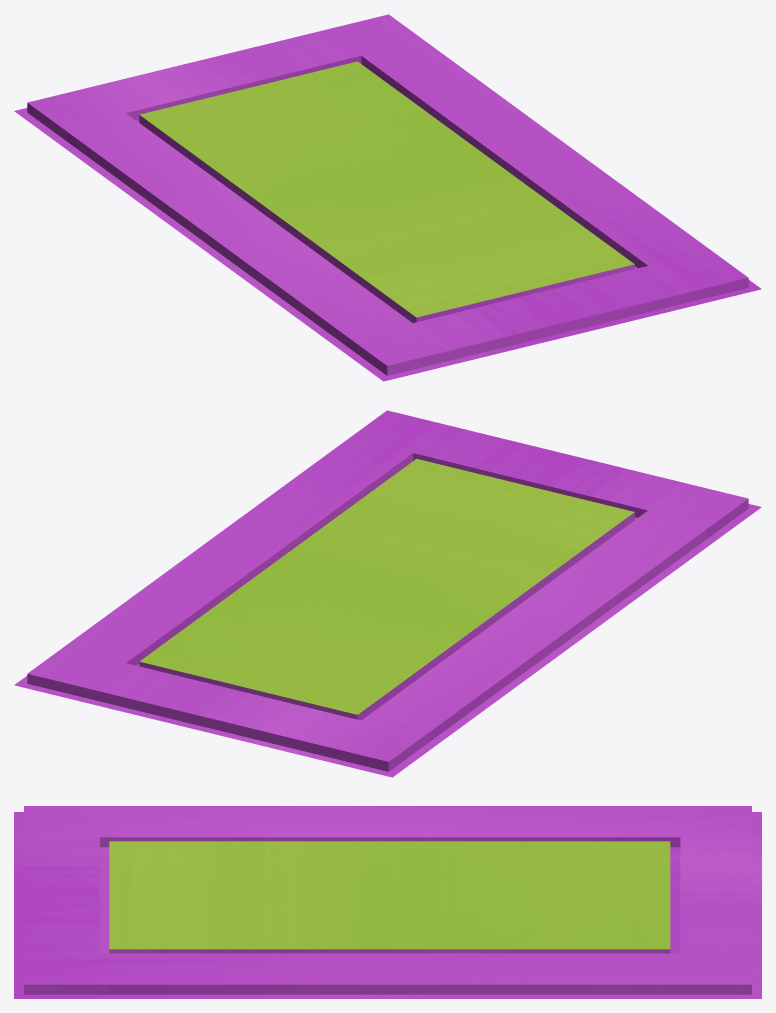
The model's file is Floor2.fbx.
The picture shows the model from 3 angles, top to bottom: view 1: azimuth 30°, elevation 25°; view 2: azimuth 150°, elevation 25°; view 3: azimuth 270°, elevation 25°; orthographic projection.
Visible parts, largest first — view 1: fLOOR.003; view 2: fLOOR.003; view 3: fLOOR.003.
Boxes of the visible parts, x1=… form: fLOOR.003: x1=14, y1=14, x2=761, y2=381; fLOOR.003: x1=14, y1=410, x2=761, y2=777; fLOOR.003: x1=14, y1=806, x2=761, y2=998.
Size of the model in its own units: 118 by 2.99 by 200.
